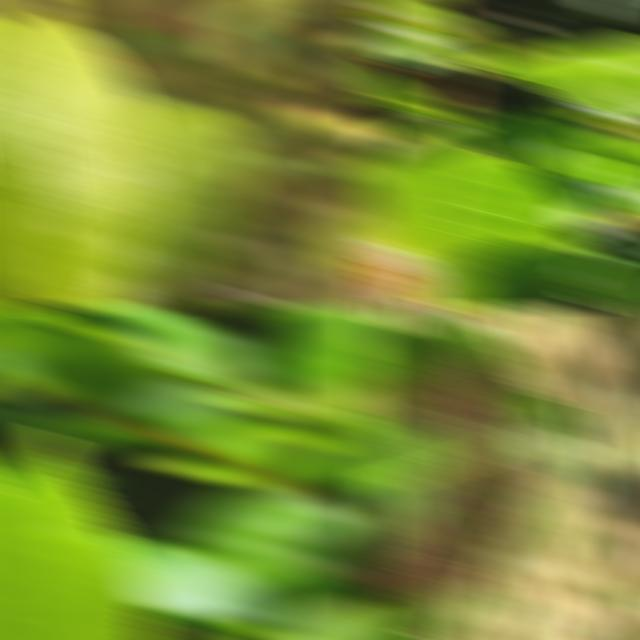Leaf: (360, 320, 587, 640), (0, 1, 159, 310), (360, 142, 591, 310), (85, 100, 255, 310), (0, 429, 156, 640), (171, 489, 360, 603), (471, 35, 640, 128), (110, 535, 276, 619), (516, 132, 640, 238), (452, 110, 584, 164), (360, 0, 460, 69), (360, 118, 461, 167), (275, 594, 382, 640), (572, 256, 640, 310), (203, 20, 276, 70), (86, 28, 197, 59), (438, 9, 495, 66), (324, 32, 382, 58)
